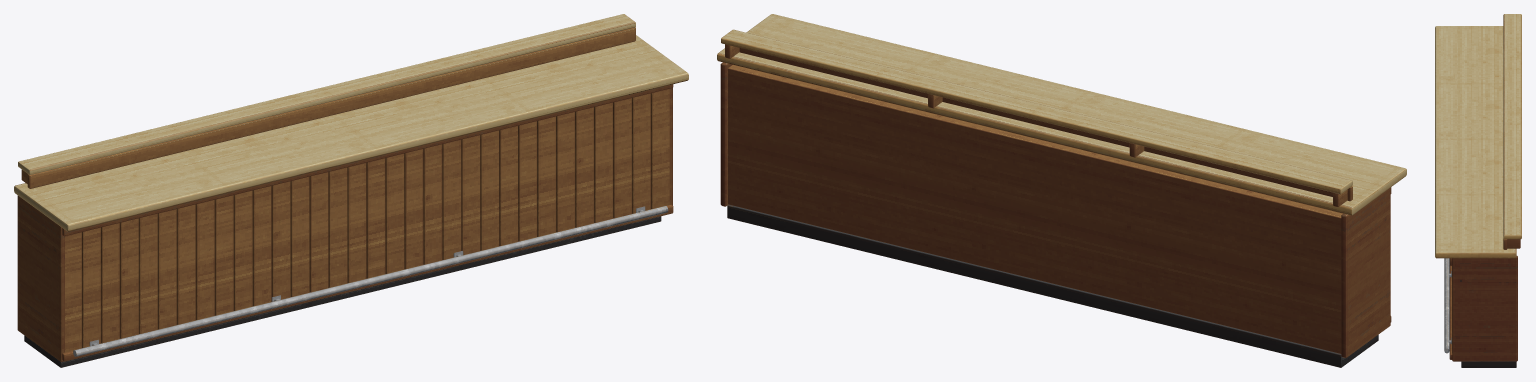
File: counter_ramen.glb
3 renders of one model, left to right at view 1: azimuth 30°, elevation 25°; view 2: azimuth 150°, elevation 25°; view 3: azimuth 270°, elevation 25°, orthographic. The views are drawn at different scales.
Parts seen in each view (by area): view 1: mesh; view 2: mesh; view 3: mesh.
Boxes of the visible parts, x1,y1,x2,y2 form: mesh: [14, 14, 688, 367]; mesh: [717, 14, 1406, 367]; mesh: [1435, 14, 1521, 367].
Size of the model in its own units: 4.09 by 1.12 by 0.6587.
1 material, 1 textured.
